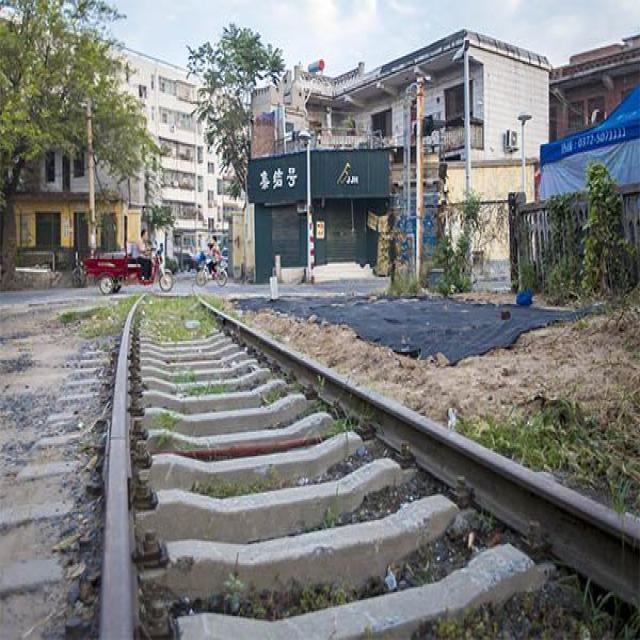vehicle: (83, 241, 184, 300), (196, 260, 238, 289)
